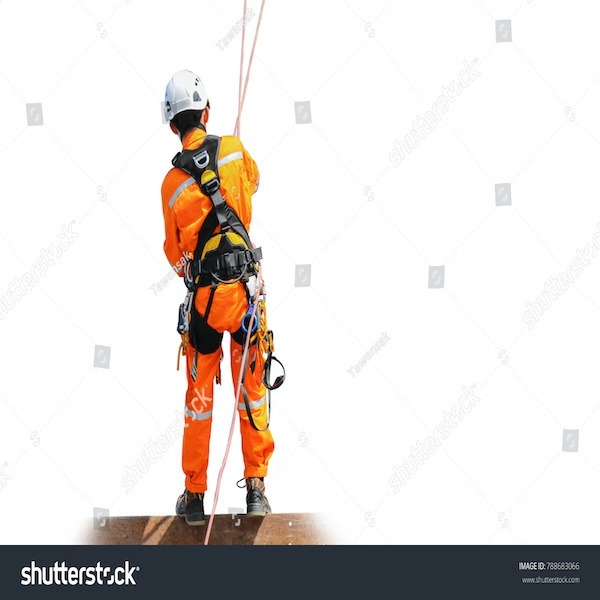helmet: (162, 70, 213, 128)
vest: (169, 134, 266, 500)
